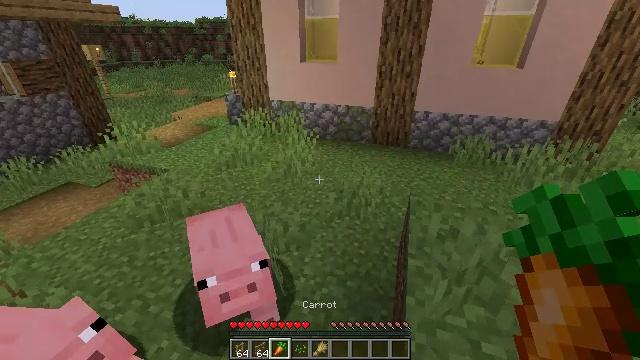pig: (188, 204, 281, 320), (1, 300, 145, 360)
